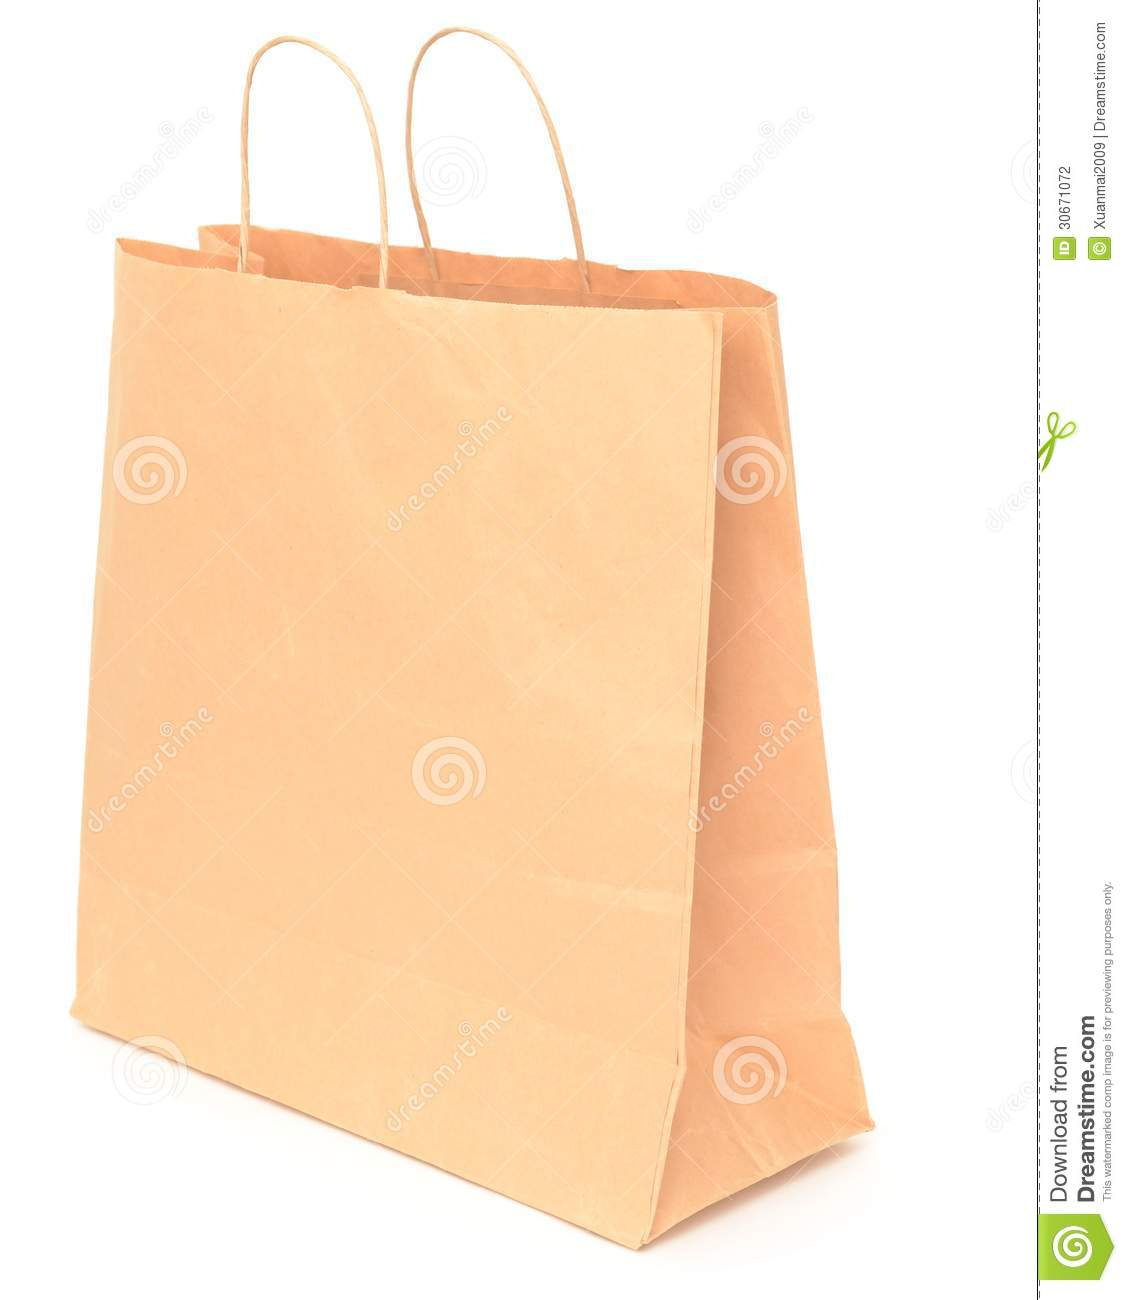flexible: (61, 19, 874, 1259)
